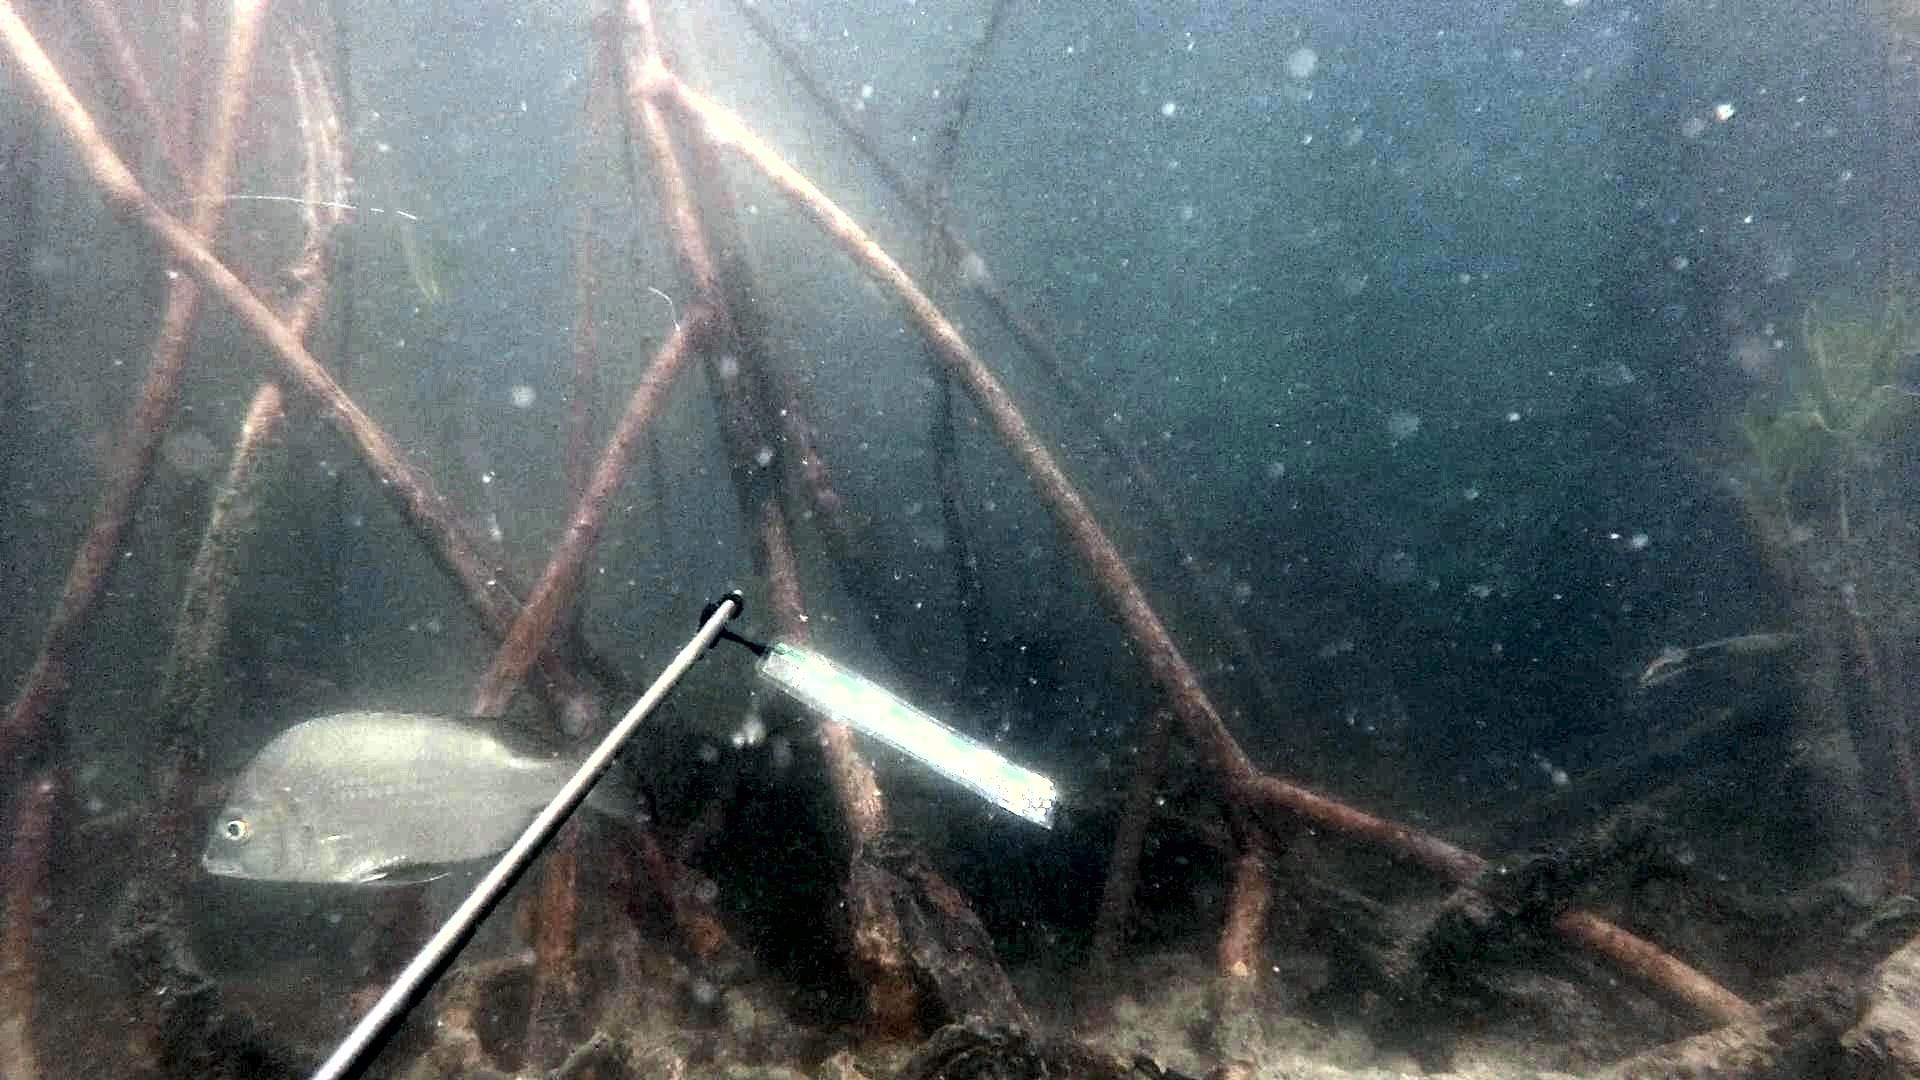acanthopagrus palmaris: (186, 694, 683, 902)
